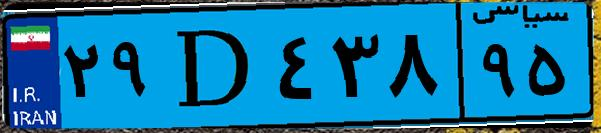2: (57, 26, 110, 100)
3: (330, 28, 385, 110)
4: (270, 28, 330, 110)
5: (525, 38, 570, 115)
8: (385, 28, 445, 110)
9: (475, 38, 525, 113), (110, 28, 158, 98)
D: (158, 12, 270, 120)
